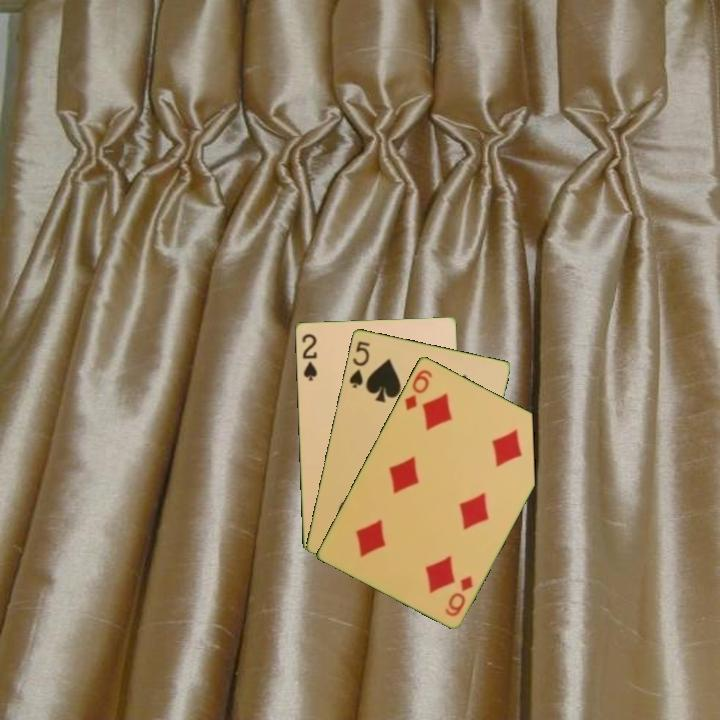2s: (298, 330, 320, 383)
5s: (345, 337, 373, 391)
6d: (441, 571, 476, 619), (401, 365, 435, 413)
